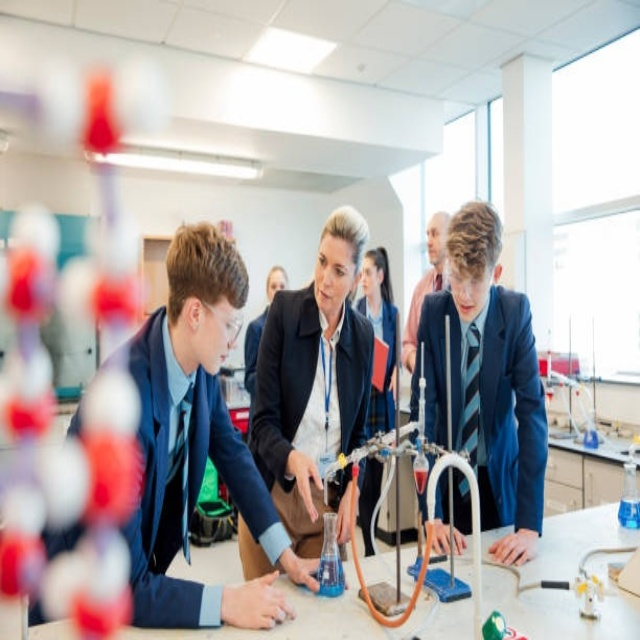Gafas: (190, 293, 245, 347), (444, 262, 492, 305)
Sin_gafas: (318, 249, 351, 282)
Sin_guantes: (226, 572, 299, 632), (334, 467, 364, 549), (291, 447, 323, 522), (281, 545, 330, 593), (490, 527, 538, 566), (423, 518, 466, 557)
Sin_mascara: (210, 345, 234, 370), (317, 284, 333, 307), (455, 301, 471, 322)
